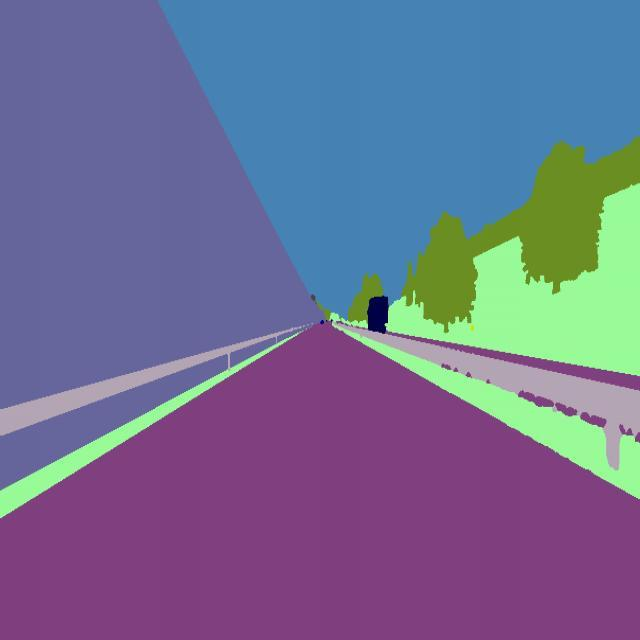safe: (366, 293, 390, 337)
